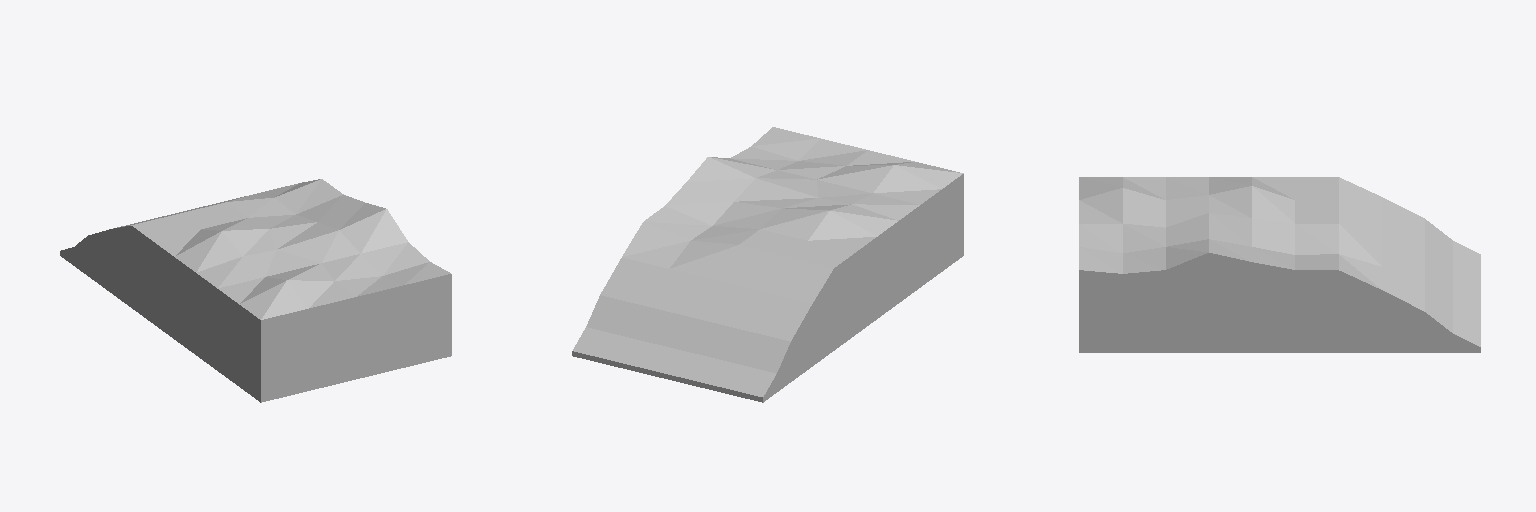
Rendered from manurepile.obj.
3 renders of one model, left to right at view 1: azimuth 30°, elevation 25°; view 2: azimuth 150°, elevation 25°; view 3: azimuth 270°, elevation 25°, orthographic.
Parts seen in each view (by area): view 1: manurepile; view 2: manurepile; view 3: manurepile.
Boxes of the visible parts, x1,y1,x2,y2 form: manurepile: [60, 179, 451, 402]; manurepile: [572, 127, 963, 402]; manurepile: [1079, 177, 1480, 352].
Bounding box in the file's own units: 2.39 × 1.2 × 4.35.